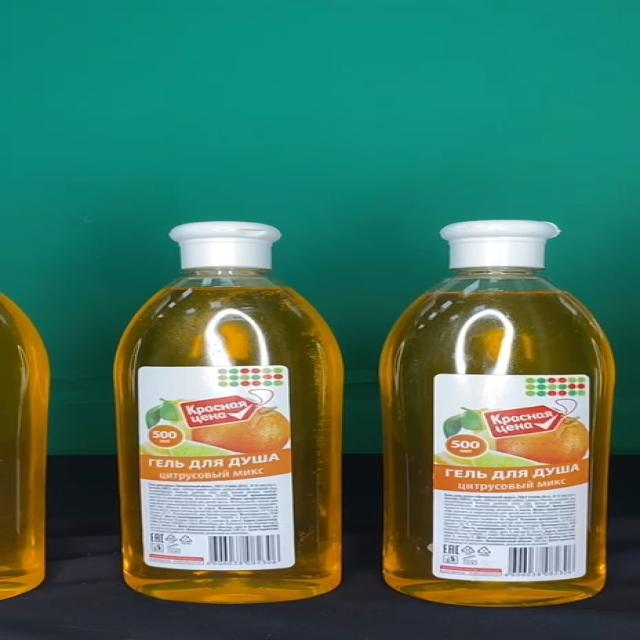Bottle: (379, 220, 616, 606), (112, 221, 344, 603)
Cap: (439, 220, 561, 269), (168, 221, 283, 269)
